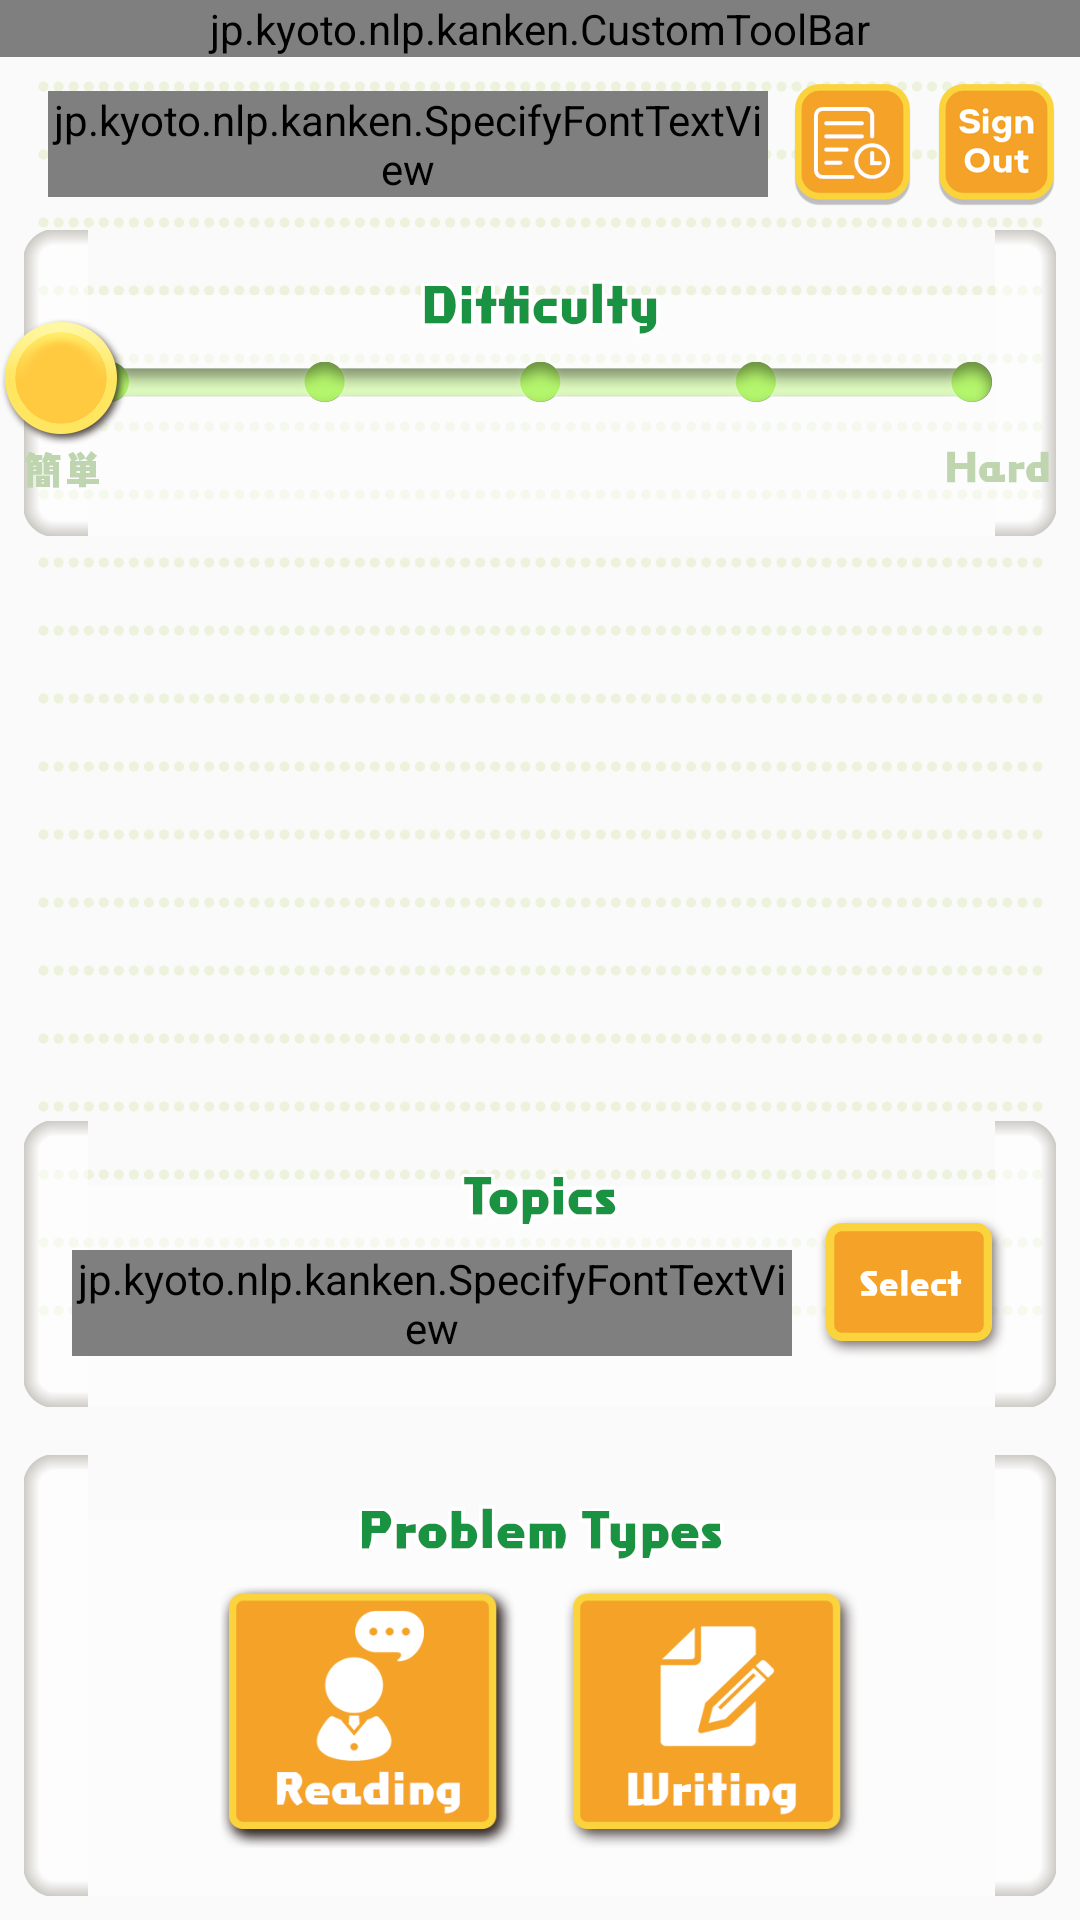

Icons on this 1080×1920 Android screen, each with its box as (x1, y1, x2, y2):
results history: (792, 82, 910, 205)
